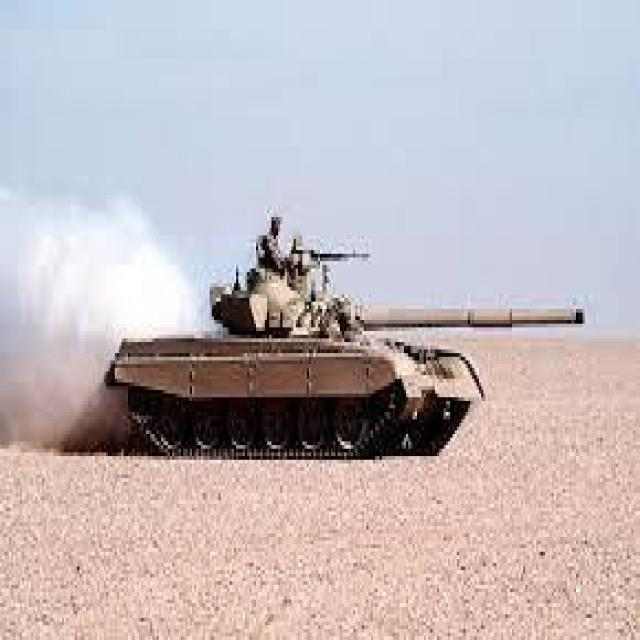Tanks: (110, 263, 590, 465)
